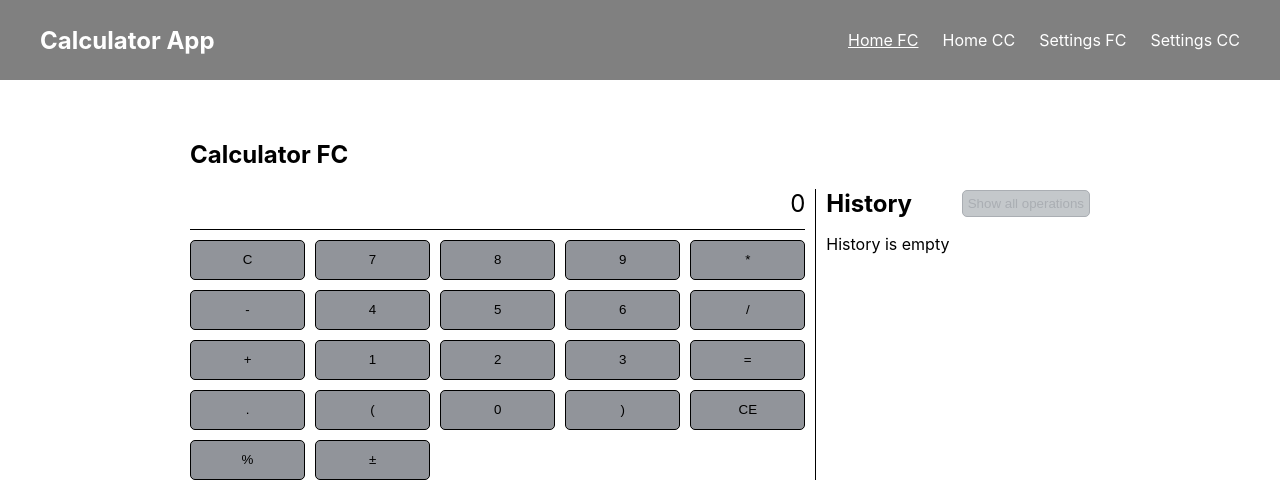
General Tests › History CC (Filling and cleaning)
Click the link with test id "homecc" at (980,40), box [943, 30, 1016, 50]
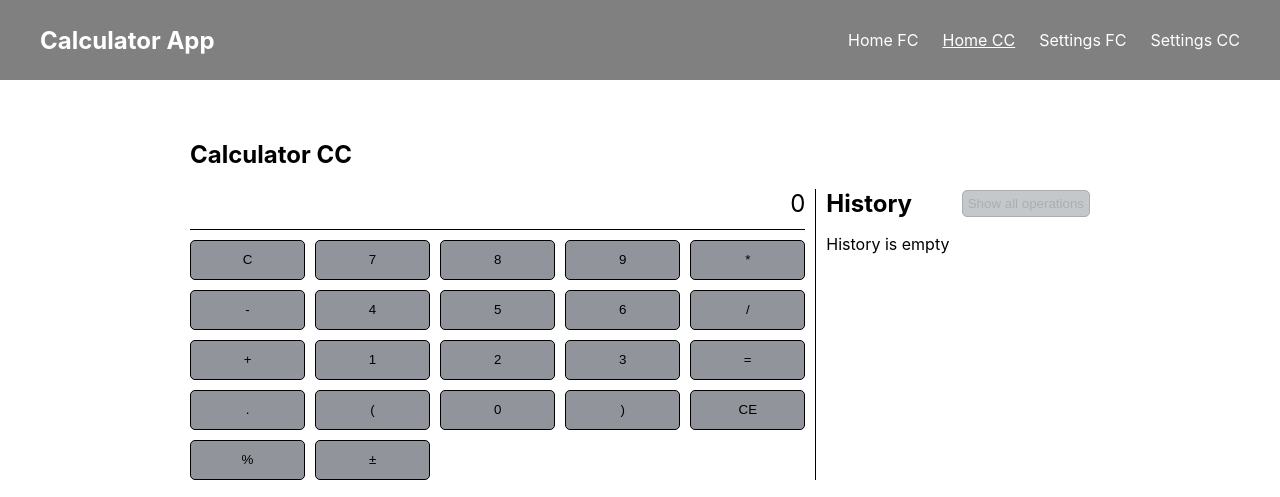
Expected: the heading "Calculator CC" is shown, [190, 140, 352, 169]
Type "(35+8*4-213)+5/(23+2)-6" into the field with test id "calculator-input" at (490,204), box [190, 189, 790, 219]
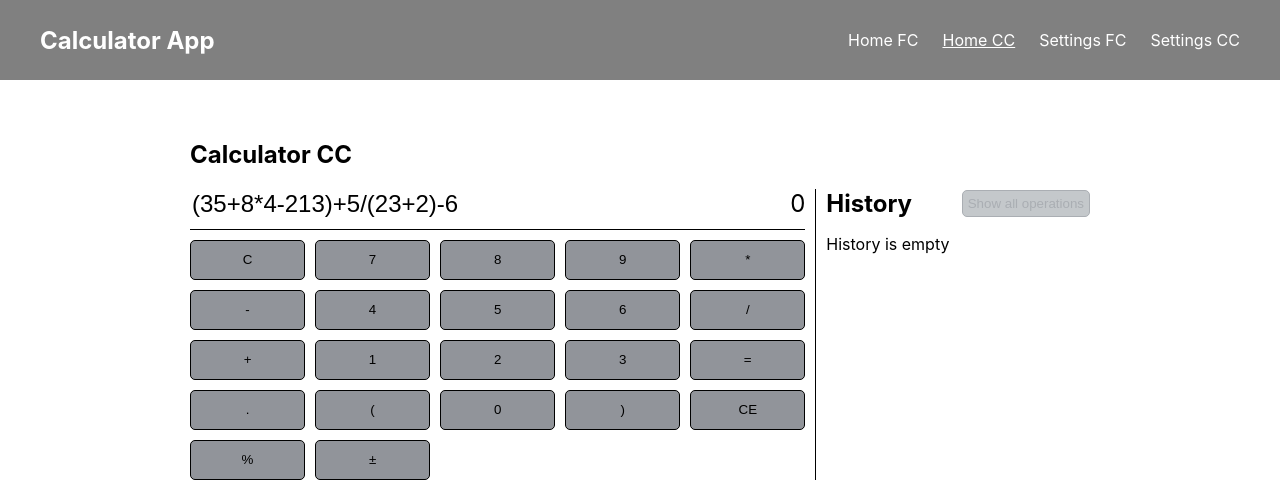
Click the button "=" at (748,360), box [690, 340, 805, 380]
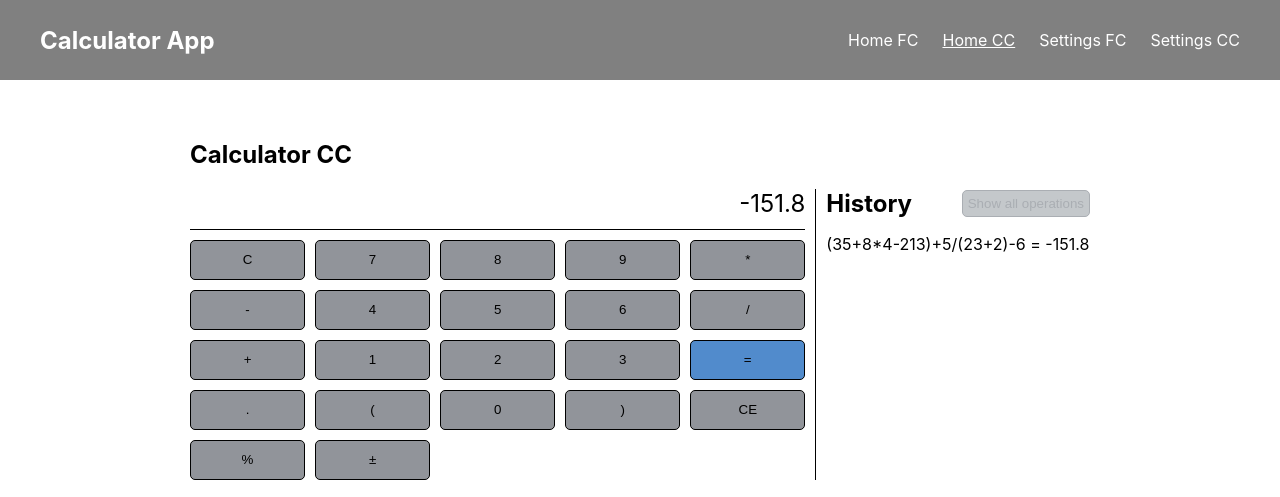
Click the link with test id "settingscc" at (1196,40), box [1151, 30, 1241, 50]
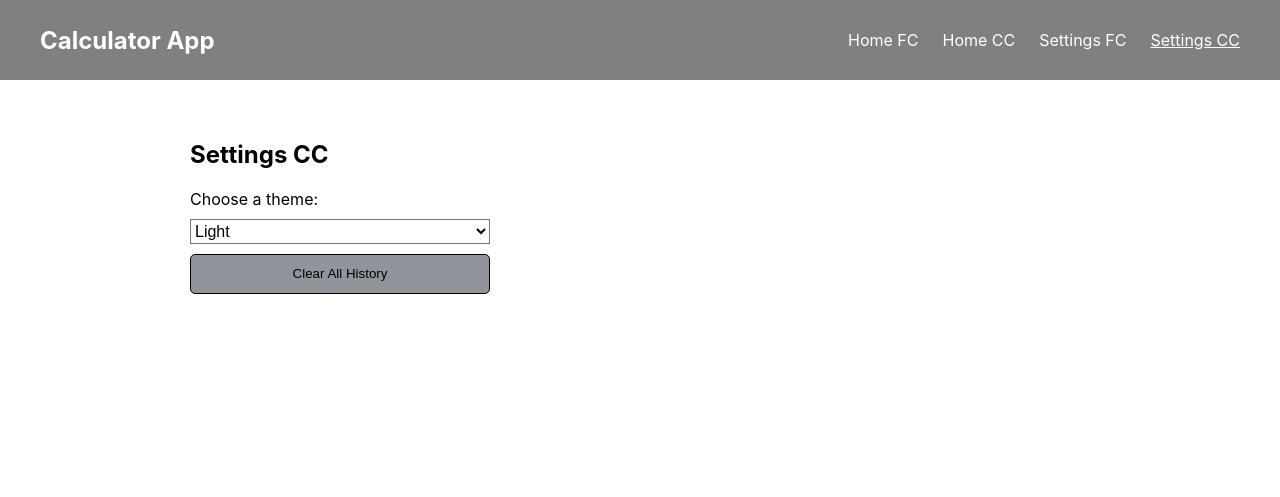
Expected: the heading "Settings CC" is shown, [190, 140, 329, 169]
Click the button "Clear All History" at (340,274), box [190, 254, 490, 294]
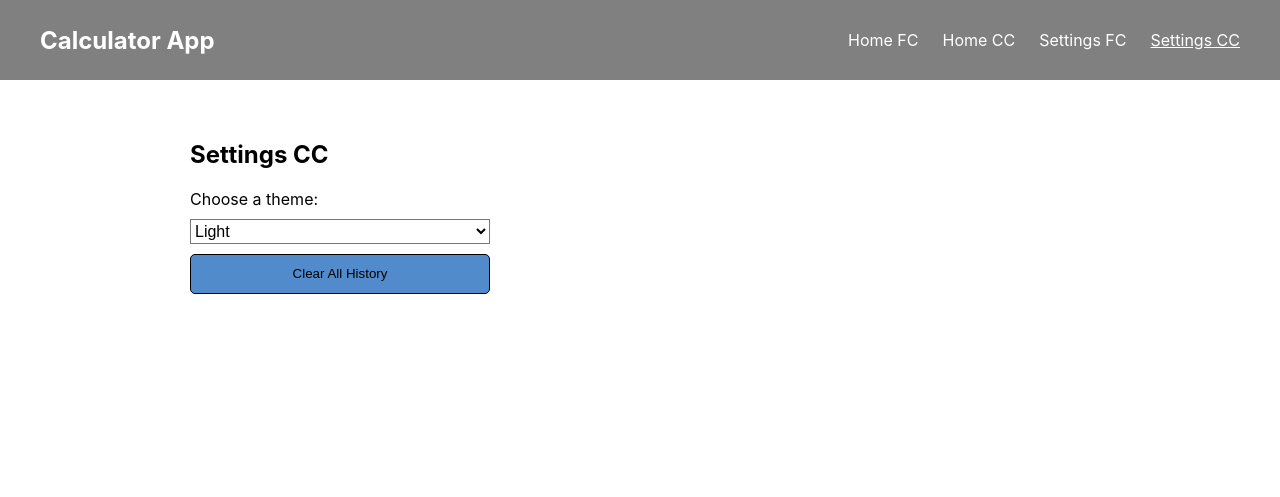
Click the link with test id "homecc" at (980,40), box [943, 30, 1016, 50]
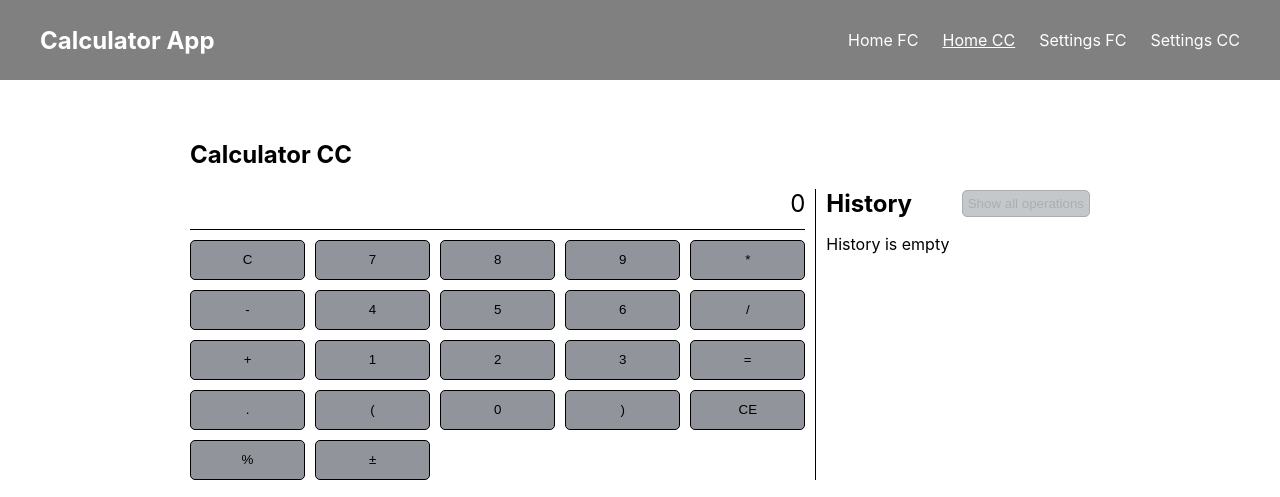
Expected: the heading "Calculator CC" is shown, [190, 140, 352, 169]
Expected: the list with test id "history-list" reads "History is empty", [826, 234, 949, 254]
